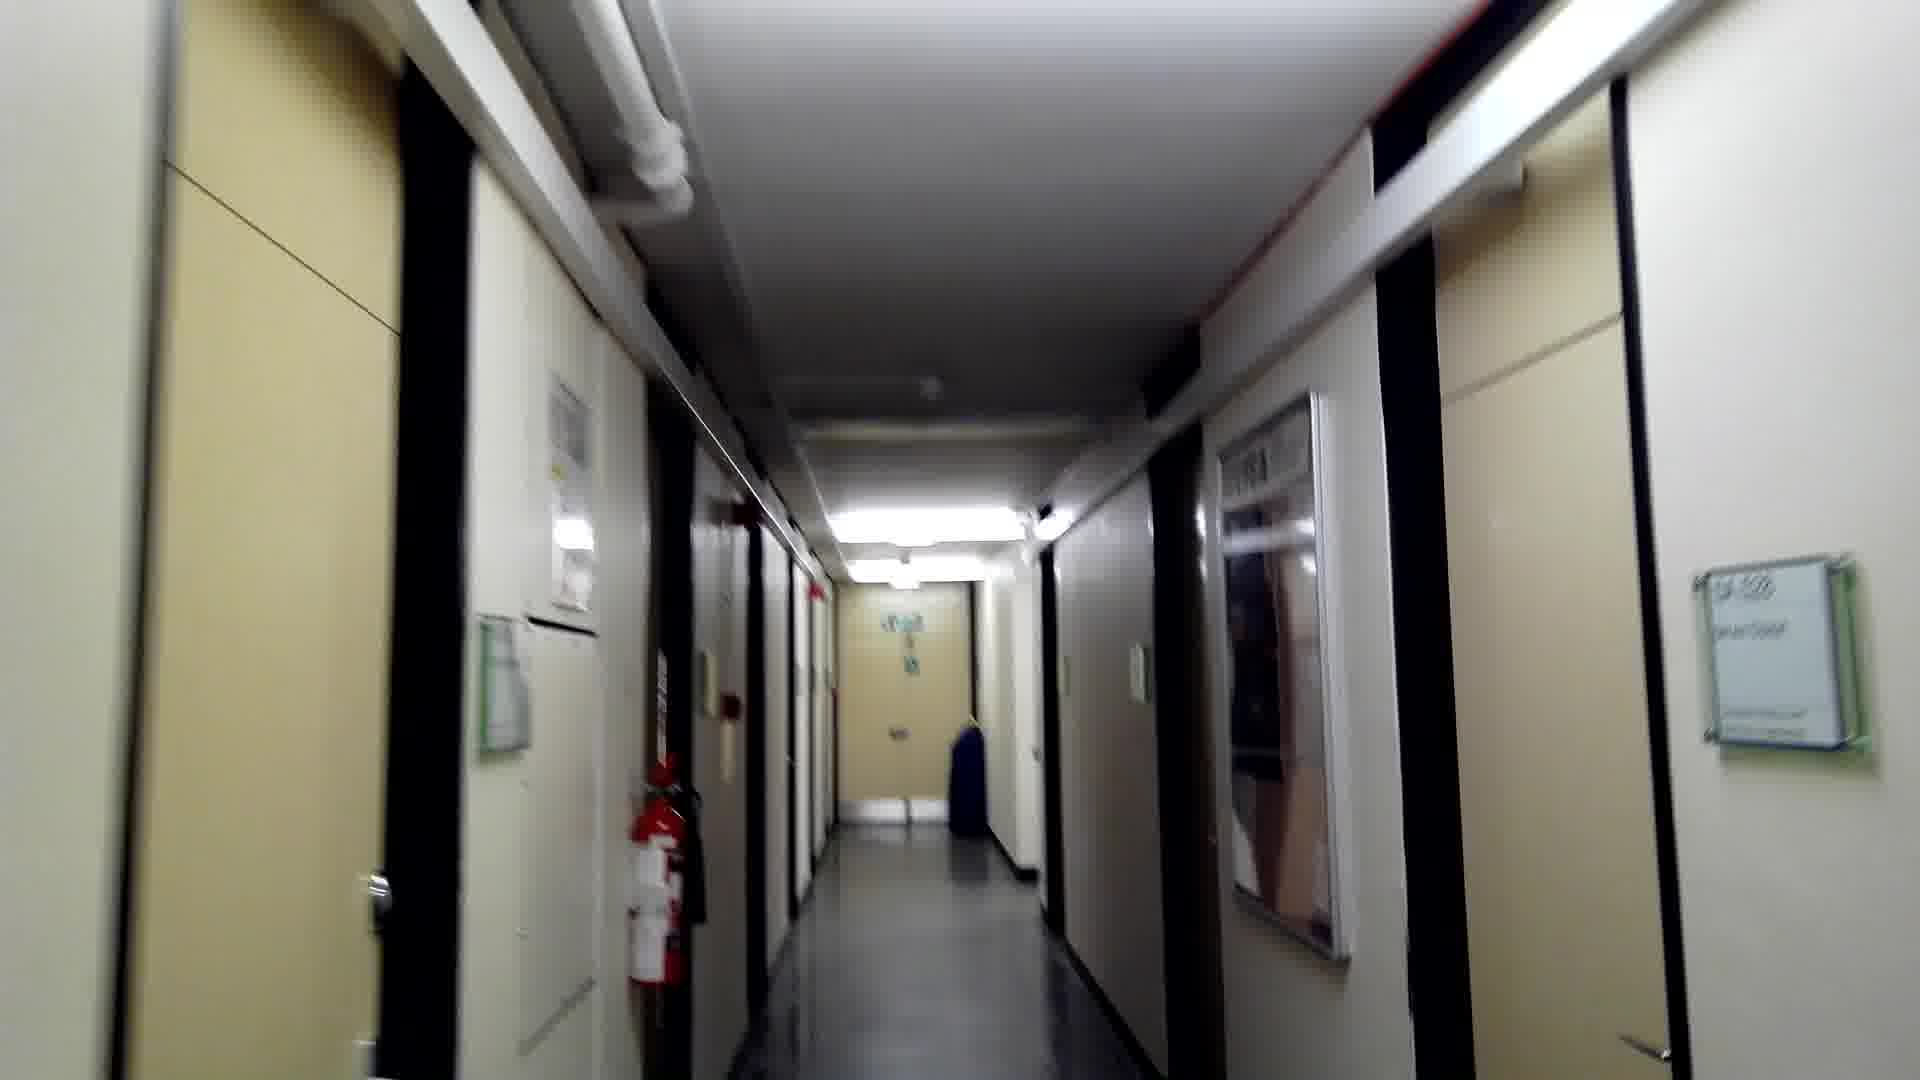Bin: (942, 712, 992, 847)
Door: (145, 3, 477, 1080), (1354, 107, 1716, 1080)
